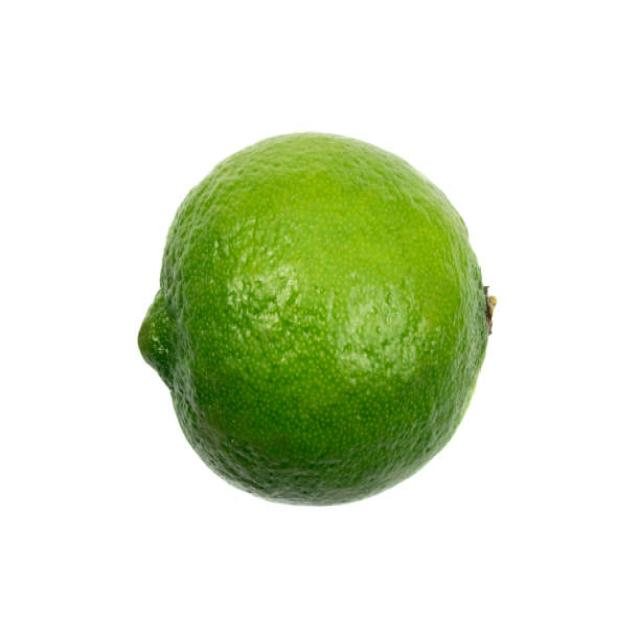Unripe: (136, 130, 494, 508)
